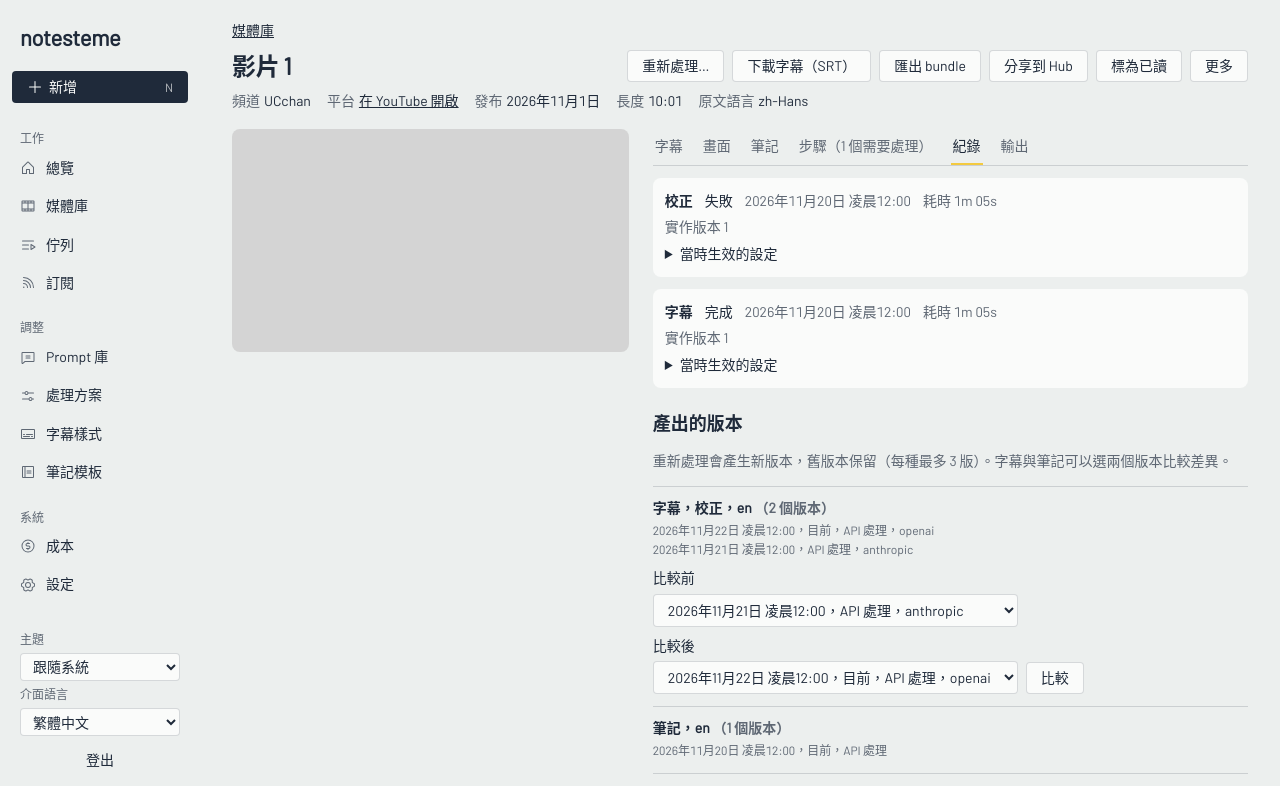
Test: 影音詳情：紀錄分頁的產出版本與比較（LIB-R11、LIB-R25） › 選同一個版本時不能比較
Expected: the heading "字幕，校正，en （2 個版本）" is shown, 653,499 -> 835,516
Select "v3" in the dropdown labelled "比較前". click: (835, 610)
box: 653,594 -> 1018,627
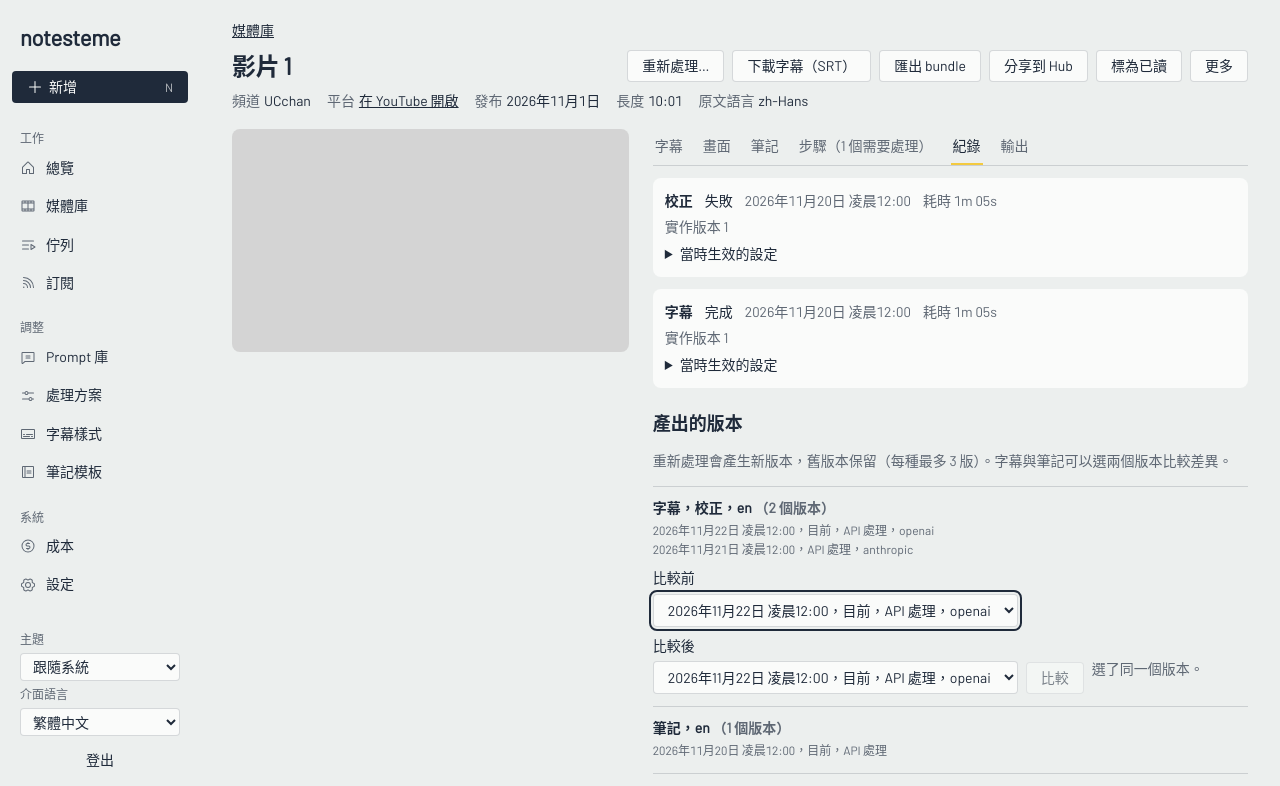
Expected: the button with aria-label "比較「字幕，校正，en」的兩個版本" is disabled, 1026,662 -> 1084,694
Expected: the text "選了同一個版本。" is shown, 1092,658 -> 1204,680
